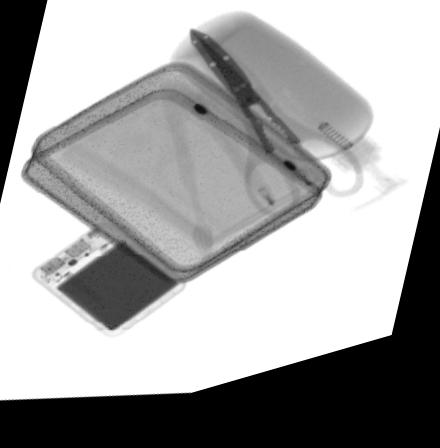Powerbank: (29, 225, 192, 346)
Scissors: (189, 36, 363, 235)
